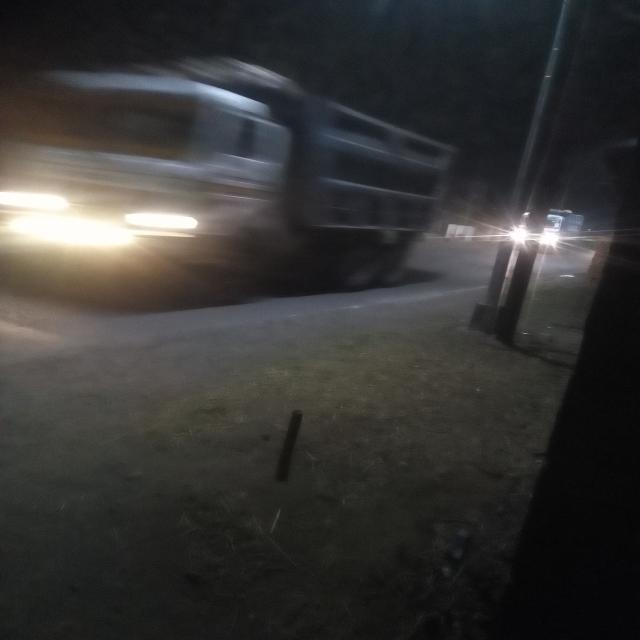truck_front: (0, 50, 461, 314), (507, 202, 592, 264)
